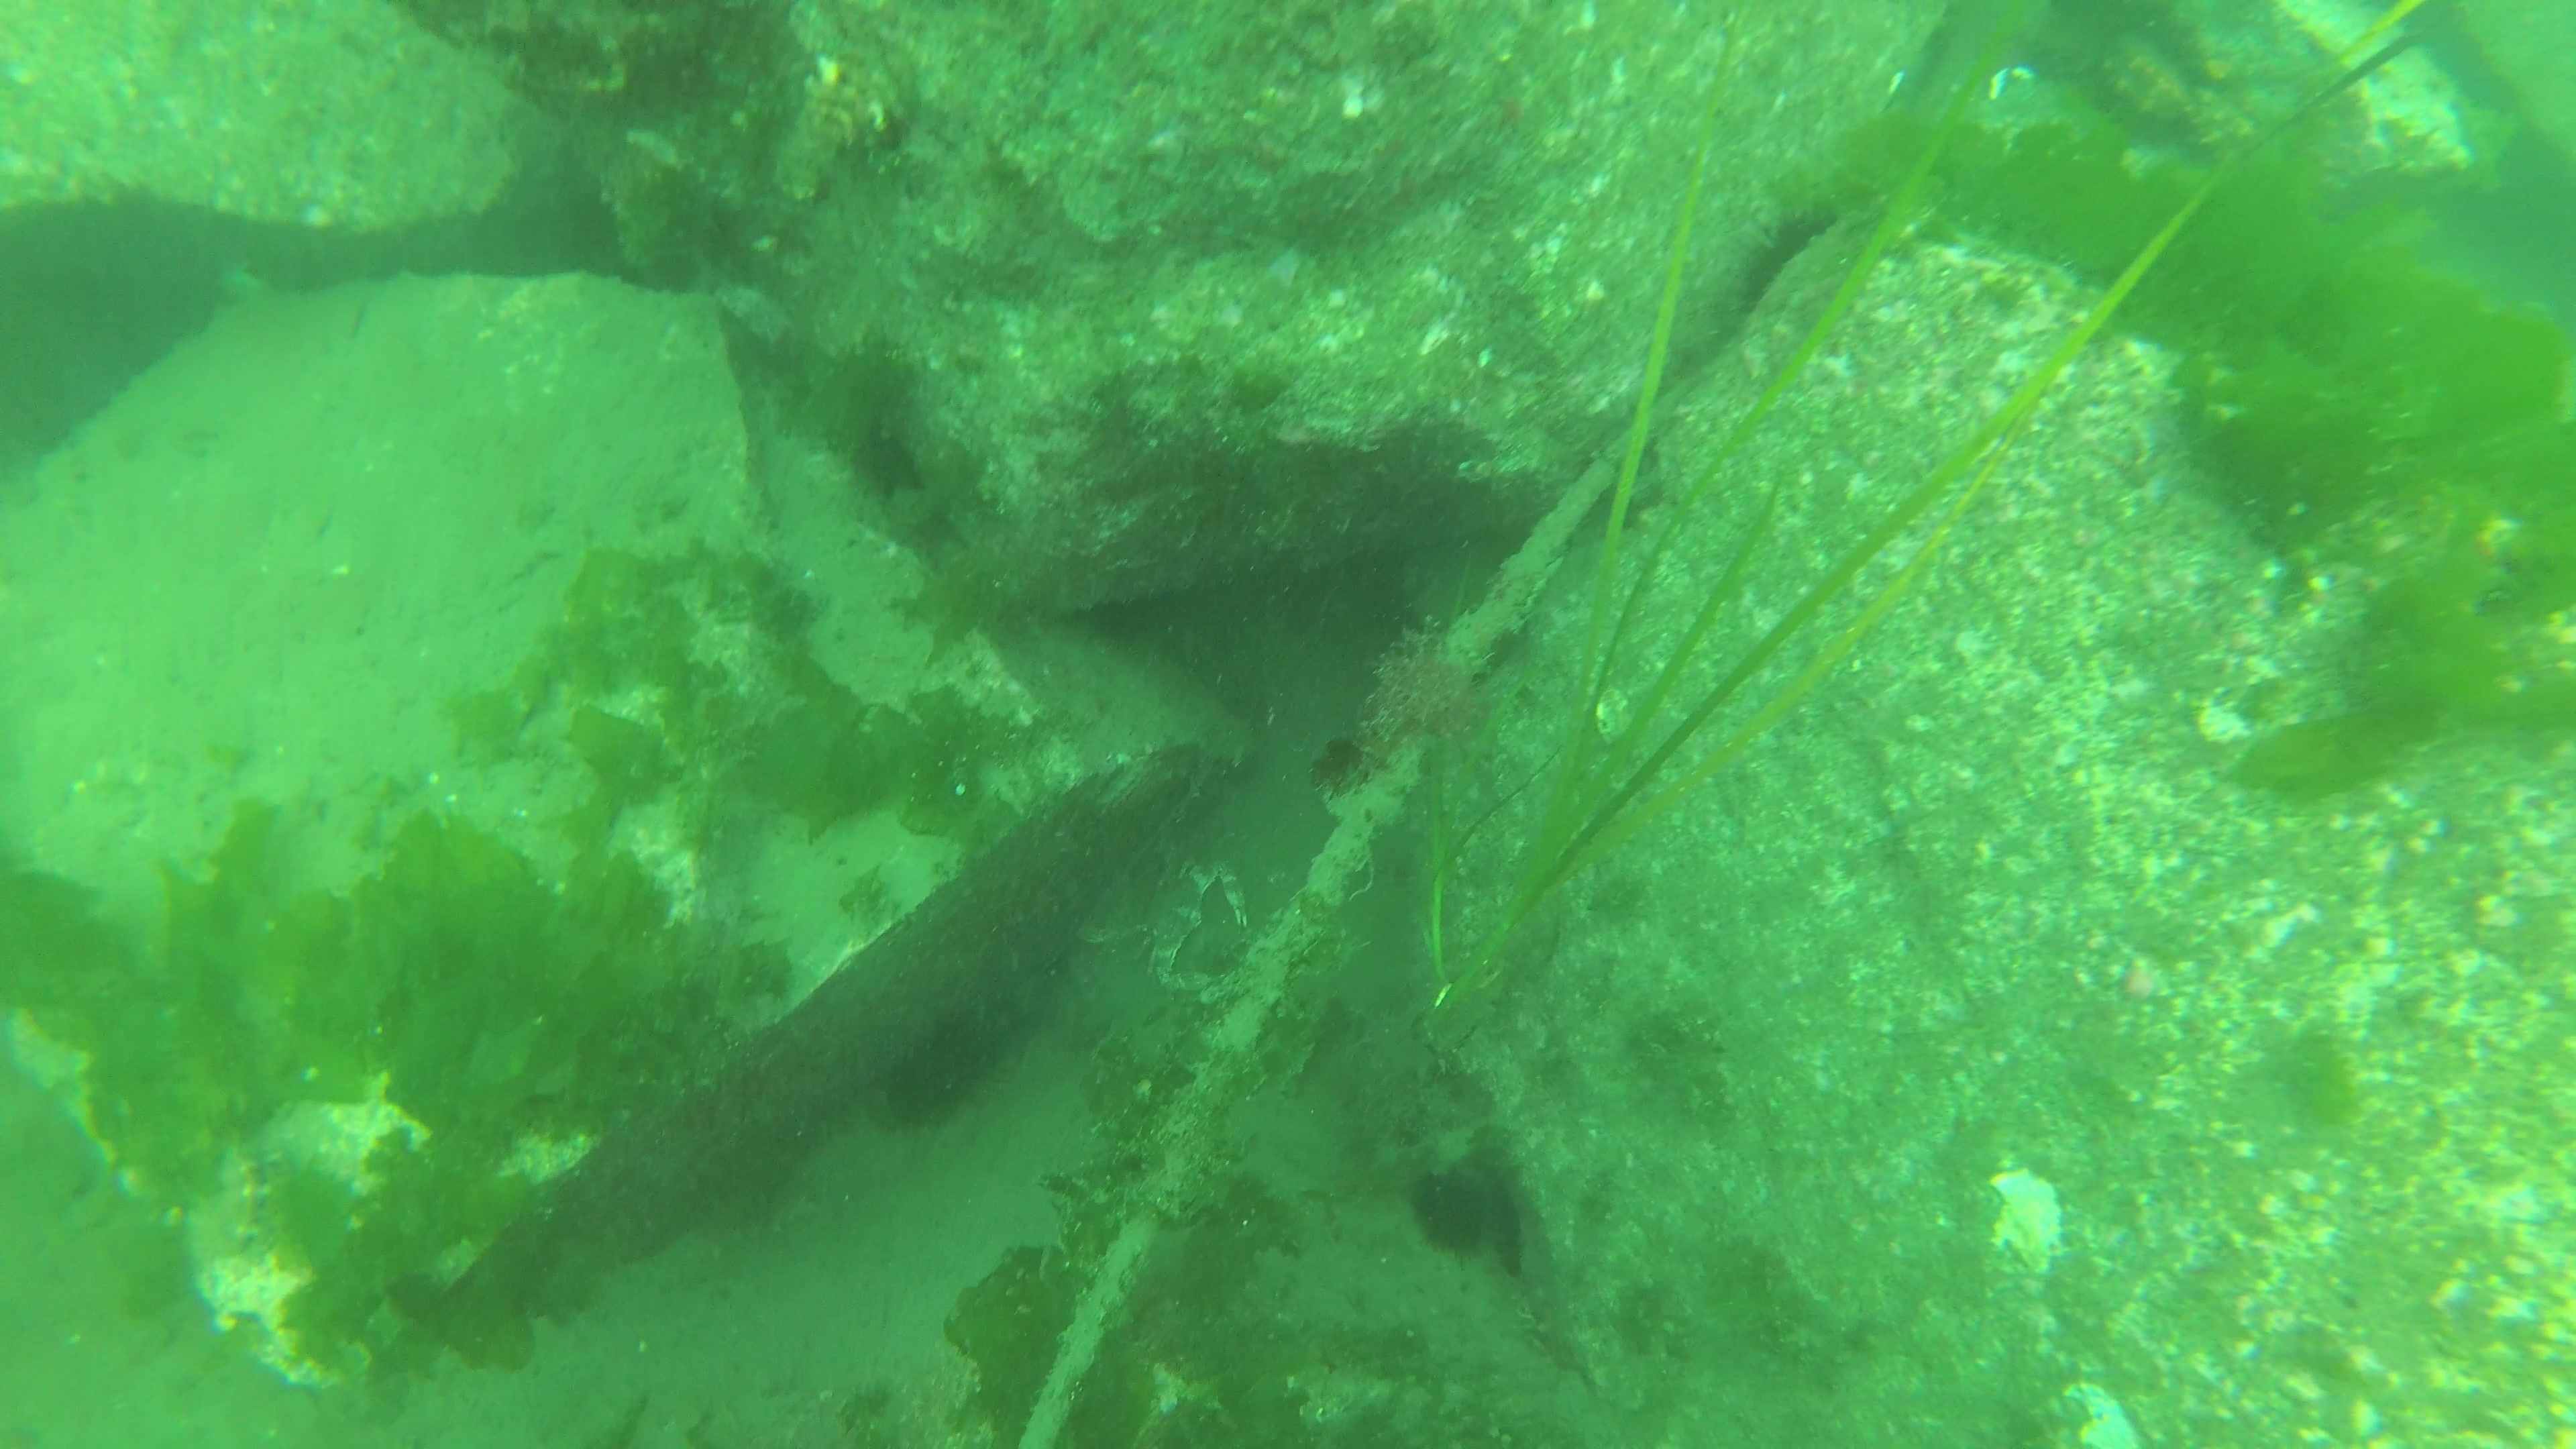echinus: (879, 1016, 993, 1127), (1741, 218, 1833, 313), (1414, 1171, 1486, 1258), (1490, 1191, 1527, 1274)
